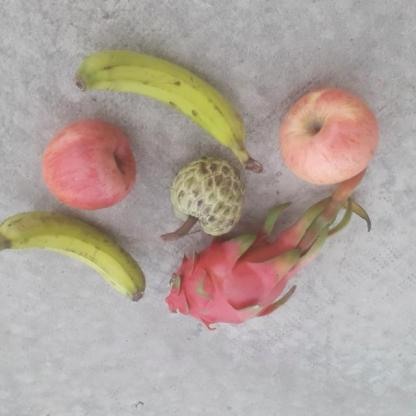annona: (163, 152, 247, 239)
apple: (38, 117, 138, 210)
banana: (66, 46, 260, 163), (0, 210, 146, 303), (270, 84, 380, 186)
pitaya: (152, 225, 300, 331)
